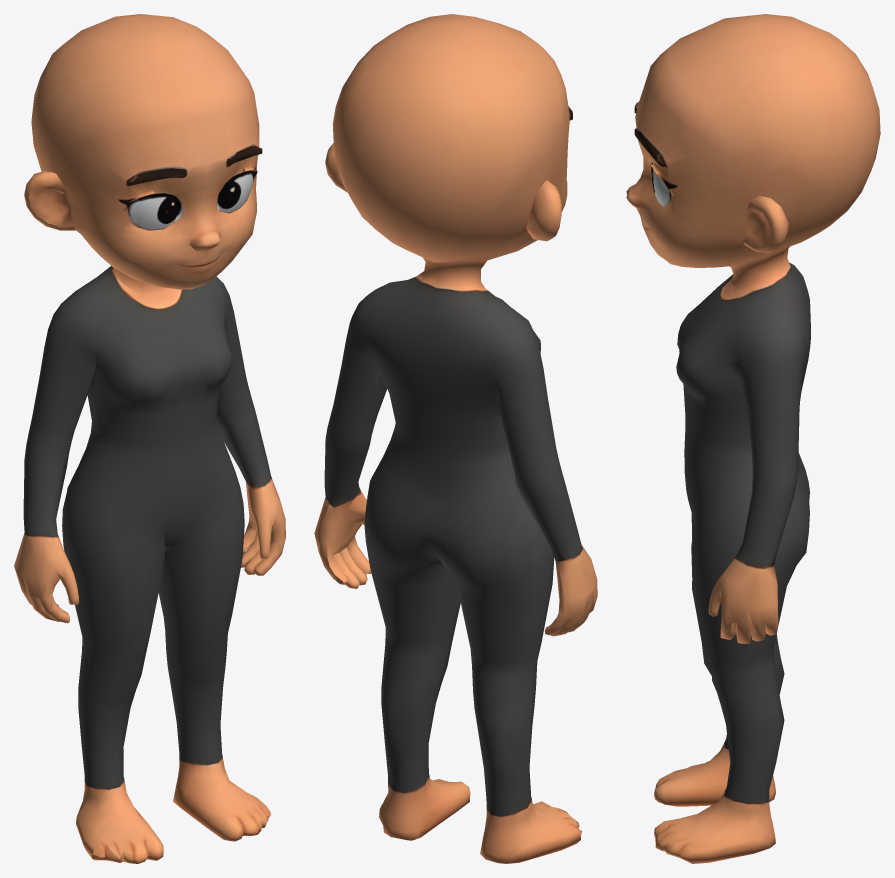
The model's file is lod_basic_pbr.fbx.
The picture shows the model from 3 angles, left to right: view 1: azimuth 30°, elevation 25°; view 2: azimuth 150°, elevation 25°; view 3: azimuth 270°, elevation 25°; orthographic projection. The views are drawn at different scales.
Parts seen in each view (by area): view 1: model_LOD0; view 2: model_LOD0; view 3: model_LOD0.
Boxes of the visible parts, x1,y1,x2,y2 form: model_LOD0: [14, 14, 285, 863]; model_LOD0: [314, 14, 597, 863]; model_LOD0: [626, 14, 880, 863].
Size of what is drawn, in the model's own units: 59.26 by 173 by 49.8.
Materials: 1 (1 with a texture image).
